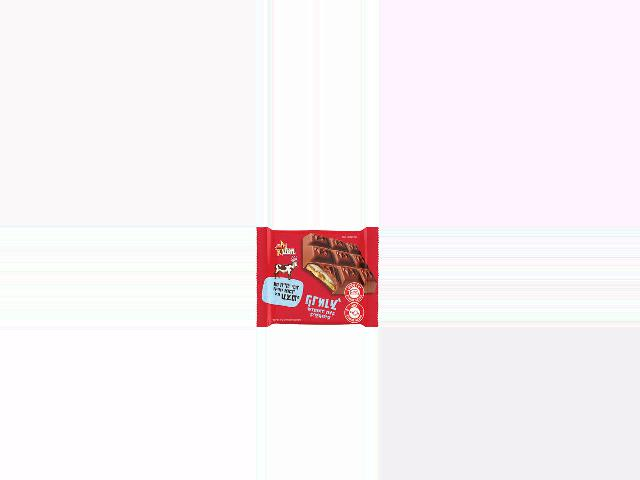chocolate: (260, 228, 376, 328)
